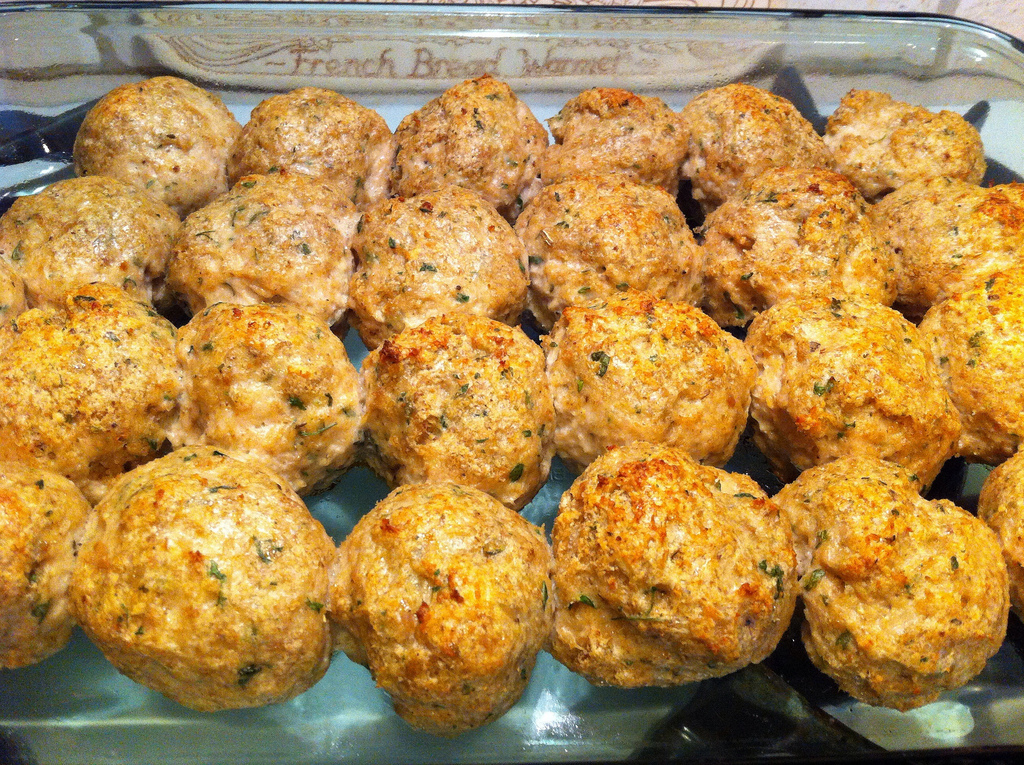meatballs: (79, 456, 349, 710), (545, 443, 779, 692), (783, 464, 999, 703), (350, 486, 540, 708), (744, 299, 948, 466), (530, 316, 759, 463), (701, 169, 905, 326), (353, 337, 556, 493), (9, 301, 184, 464), (191, 314, 353, 476), (353, 186, 522, 341), (521, 174, 696, 314), (4, 184, 186, 288), (386, 81, 542, 201), (186, 188, 334, 312), (827, 79, 979, 196), (1, 469, 97, 650), (879, 182, 1024, 300), (80, 82, 231, 195), (675, 86, 830, 195), (251, 86, 383, 190), (553, 86, 677, 194), (928, 296, 1024, 435)
